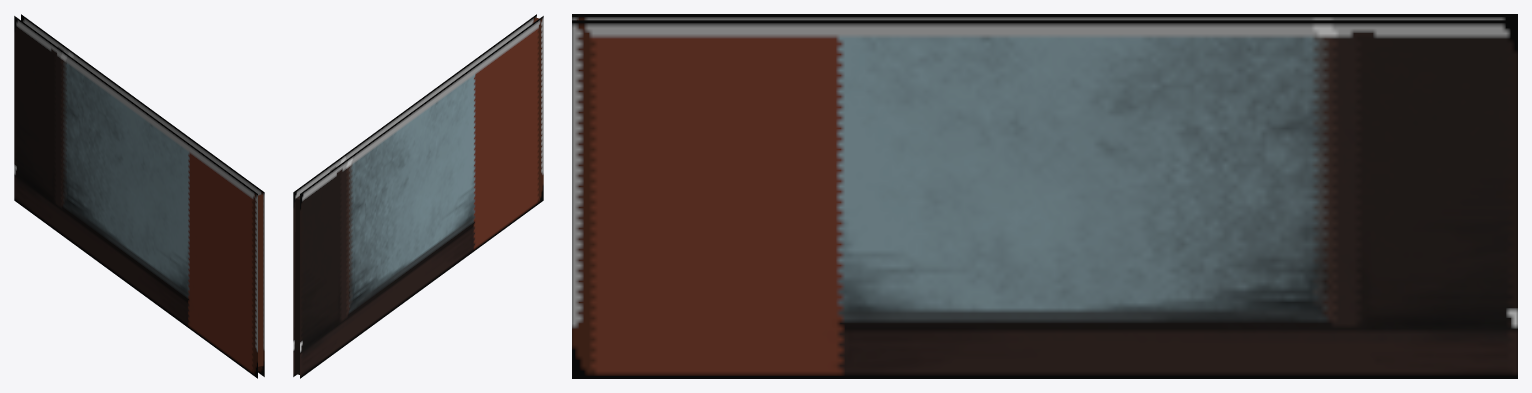
The model's file is pz_native_location_restaurant_seahorse_01_21_frame.obj.
3 views of the same model, side by side, from view 1: azimuth 30°, elevation 25°; view 2: azimuth 150°, elevation 25°; view 3: azimuth 270°, elevation 25° (orthographic). The views are drawn at different scales.
Parts seen in each view (by area): view 1: pz_native_location_restaurant_seahorse_01_21_frame; view 2: pz_native_location_restaurant_seahorse_01_21_frame; view 3: pz_native_location_restaurant_seahorse_01_21_frame.
Boxes of the visible parts, x1,y1,x2,y2 form: pz_native_location_restaurant_seahorse_01_21_frame: [14, 14, 264, 378]; pz_native_location_restaurant_seahorse_01_21_frame: [293, 14, 543, 378]; pz_native_location_restaurant_seahorse_01_21_frame: [572, 14, 1517, 378].
Size of the model in its own units: 0.04 by 1.06 by 2.54.
1 material, 1 textured.
